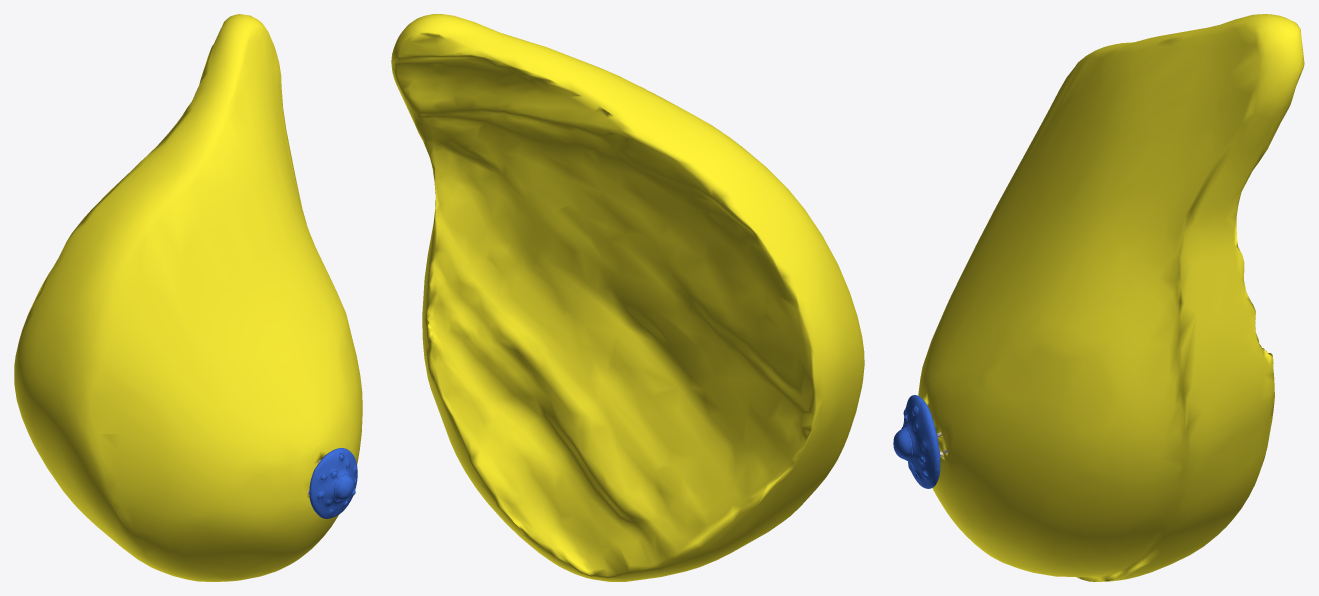
The model's file is 3d-vh-f-mammary-gland-l-40.glb.
3 renders of one model, left to right at view 1: azimuth 30°, elevation 25°; view 2: azimuth 150°, elevation 25°; view 3: azimuth 270°, elevation 25°, orthographic. The views are drawn at different scales.
Parts seen in each view (by area): view 1: VH_F_fat_L, VH_F_areola_L; view 2: VH_F_fat_L; view 3: VH_F_fat_L, VH_F_areola_L, VH_F_nipple_L.
Boxes of the visible parts, left/top/right/bottom form: VH_F_fat_L: left=14, top=14, right=362, bottom=581; VH_F_areola_L: left=309, top=448, right=357, bottom=518; VH_F_fat_L: left=391, top=14, right=864, bottom=581; VH_F_fat_L: left=918, top=14, right=1304, bottom=581; VH_F_areola_L: left=901, top=395, right=940, bottom=488; VH_F_nipple_L: left=893, top=427, right=913, bottom=463.
Bounding box in the file's own units: 0.1281 × 0.1819 × 0.1119.
